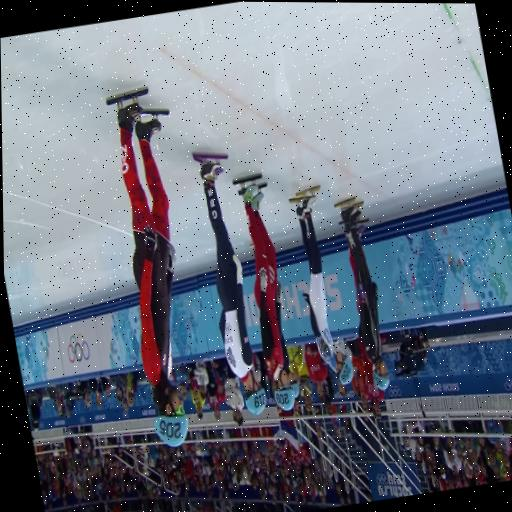Skater: (106, 88, 187, 445), (191, 152, 265, 414), (233, 174, 294, 410), (290, 185, 353, 384), (334, 198, 388, 389), (280, 330, 299, 396)
